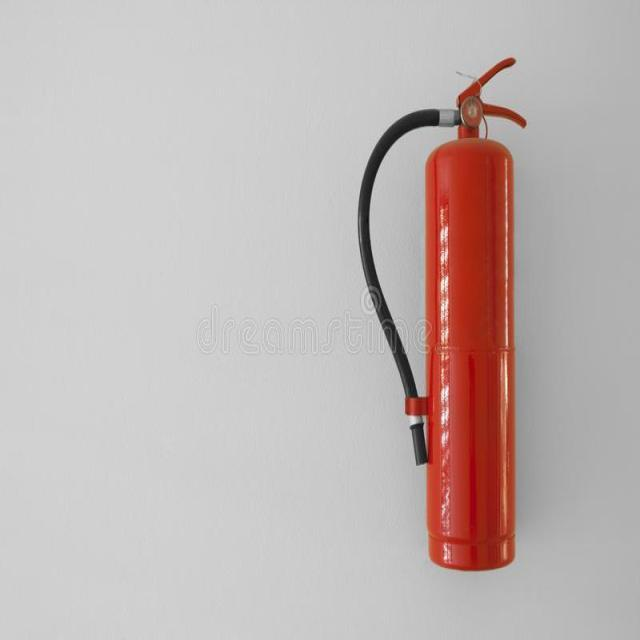fire_extinguisher: (352, 48, 529, 574)
